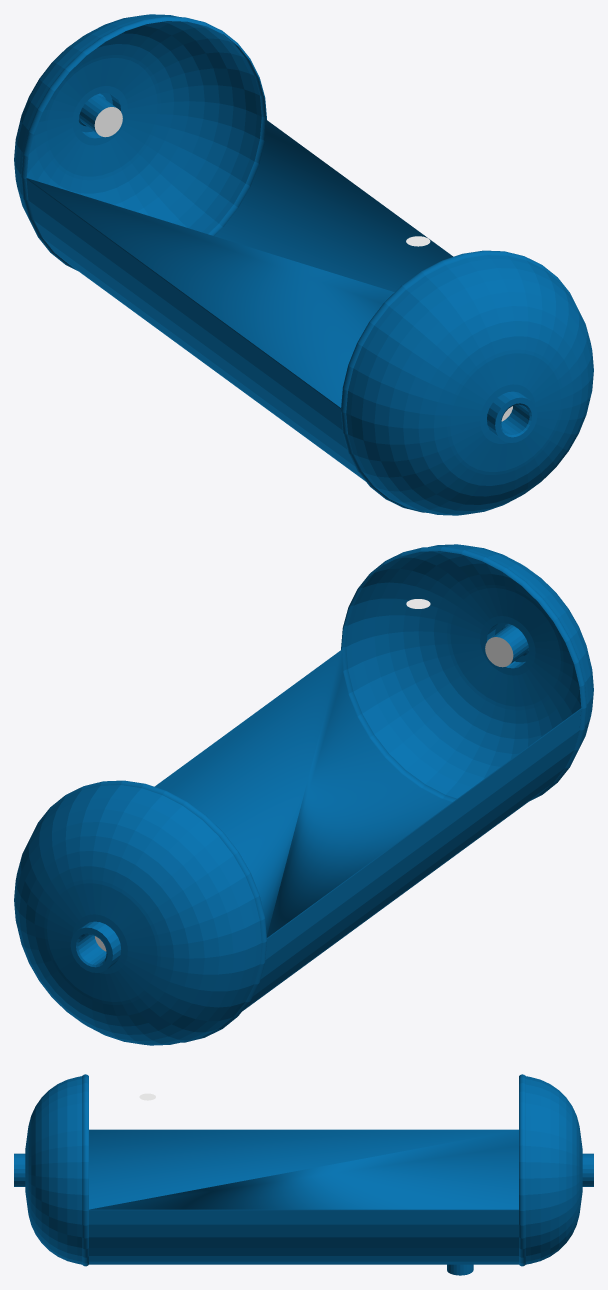
Rendered from Cut Column.fbx.
3 views of the same model, one above another, from view 1: azimuth 30°, elevation 25°; view 2: azimuth 150°, elevation 25°; view 3: azimuth 270°, elevation 25° (orthographic). The views are drawn at different scales.
Parts seen in each view (by area): view 1: Group_001, Composant#.Composant0, Composant#; view 2: Group_001, Composant#, Composant#.Composant0; view 3: Group_001, Composant#.Composant0, Composant#.
Part boxes in pixels (left/top/right/bottom): Group_001: left=26, top=120, right=453, bottom=481; Composant#.Composant0: left=341, top=250, right=593, bottom=515; Composant#: left=14, top=14, right=266, bottom=270; Group_001: left=154, top=599, right=581, bottom=1011; Composant#: left=14, top=780, right=266, bottom=1045; Composant#.Composant0: left=341, top=544, right=593, bottom=801; Group_001: left=89, top=1093, right=518, bottom=1275; Composant#.Composant0: left=14, top=1074, right=88, bottom=1266; Composant#: left=519, top=1074, right=593, bottom=1266.
Size of the model in its own units: 173 by 185 by 520.
